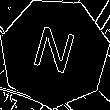N_S: (28, 23, 80, 83)
